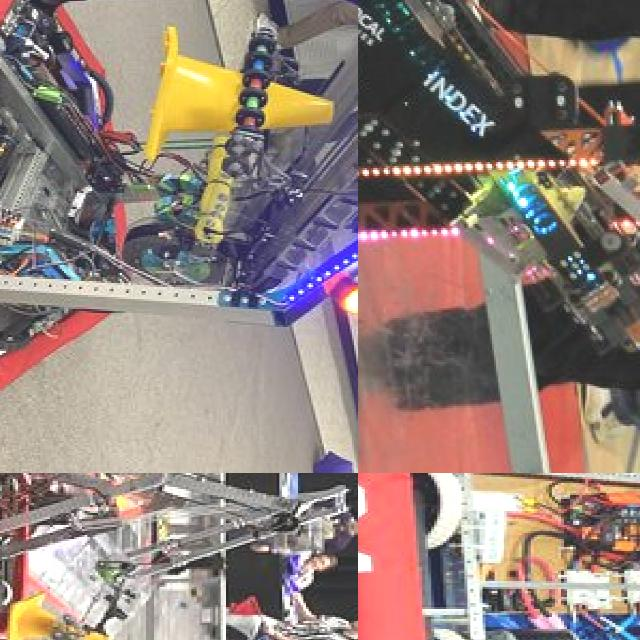FRC-Robots: (0, 0, 358, 457), (358, 0, 640, 473), (0, 473, 345, 640), (358, 473, 640, 640)
